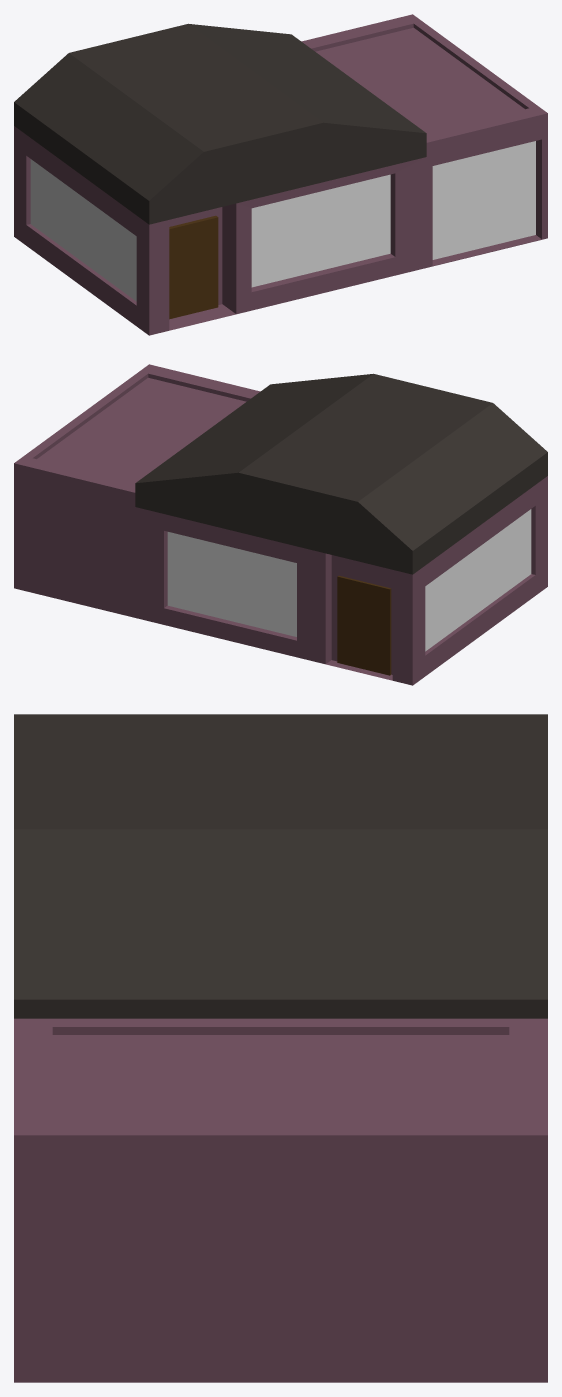
Rendered from house.fbx.
3 views of the same model, one above another, from view 1: azimuth 30°, elevation 25°; view 2: azimuth 150°, elevation 25°; view 3: azimuth 270°, elevation 25° (orthographic). The views are drawn at different scales.
Parts seen in each view (by area): view 1: Cube; view 2: Cube; view 3: Cube.
Boxes of the visible parts, x1,y1,x2,y2 form: Cube: [14, 14, 547, 335]; Cube: [14, 364, 547, 685]; Cube: [14, 714, 547, 1382].
Size of the model in its own units: 620 by 254 by 364.
